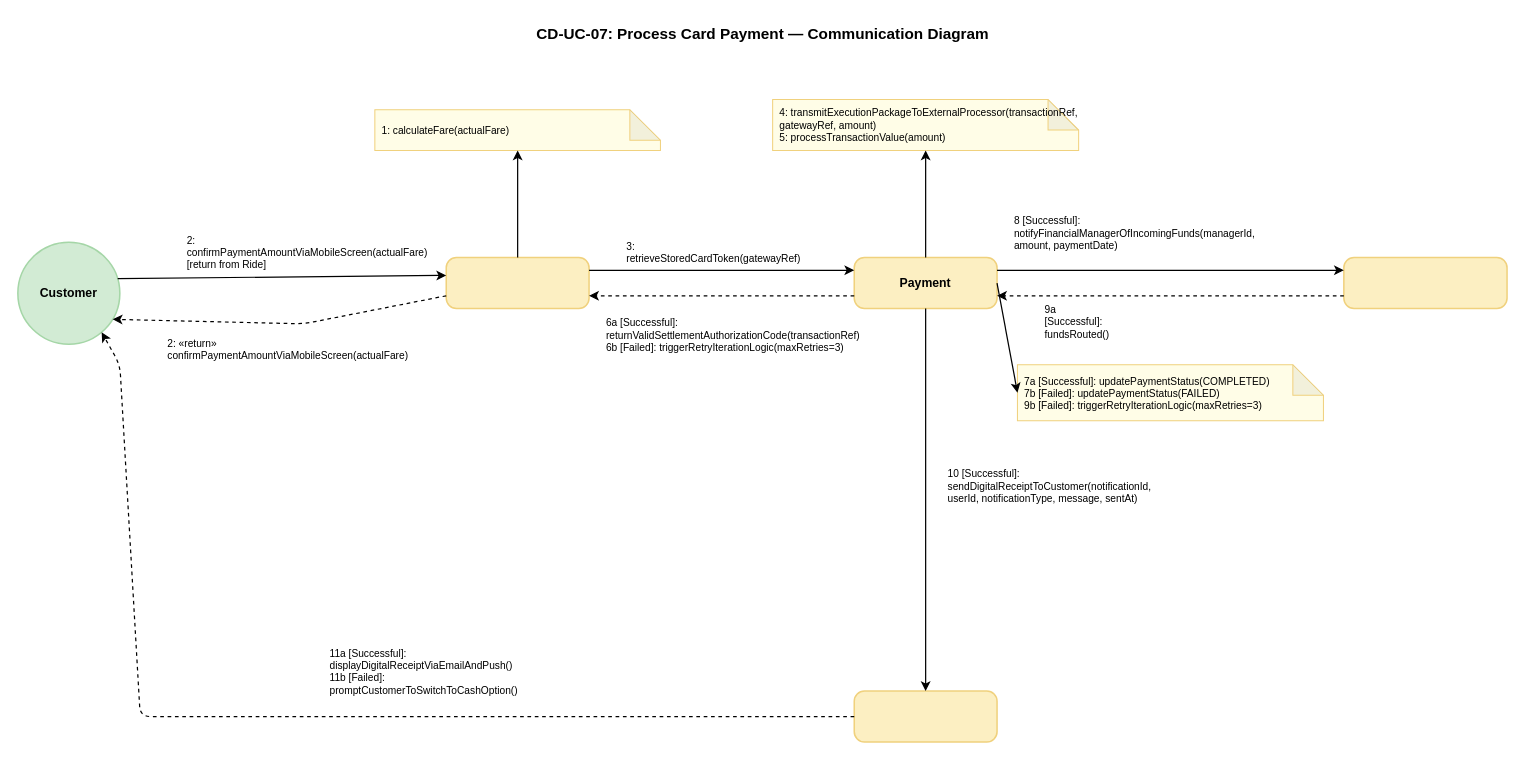
Some shapes in this 1526 by 760 pixel diagram are drawn without their labels. The centre of each missing label's shape, as x and y in pixels:
"FinancialManager" belongs at point (1425, 282).
"Notification" belongs at point (925, 716).
"Ride" belongs at point (517, 282).
